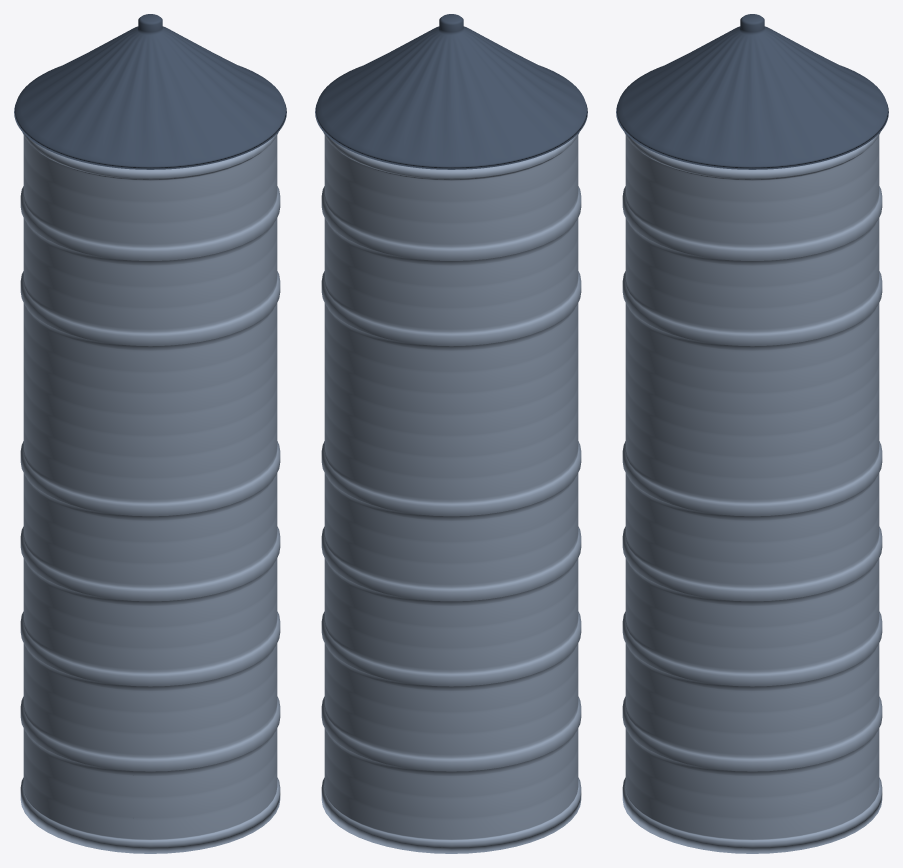
The model's file is grain-silo-large-shell-authored-atlas.glb.
3 views of the same model, side by side, from view 1: azimuth 30°, elevation 25°; view 2: azimuth 150°, elevation 25°; view 3: azimuth 270°, elevation 25° (orthographic).
Parts seen in each view (by area): view 1: Authored surface.001; view 2: Authored surface.001; view 3: Authored surface.001.
Boxes of the visible parts, x1,y1,x2,y2 form: Authored surface.001: (14,14,286,853); Authored surface.001: (315,14,587,853); Authored surface.001: (616,14,888,853).
Size of the model in its own units: 12.6 by 39.8 by 12.6.
Materials: 1 (1 with a texture image).
